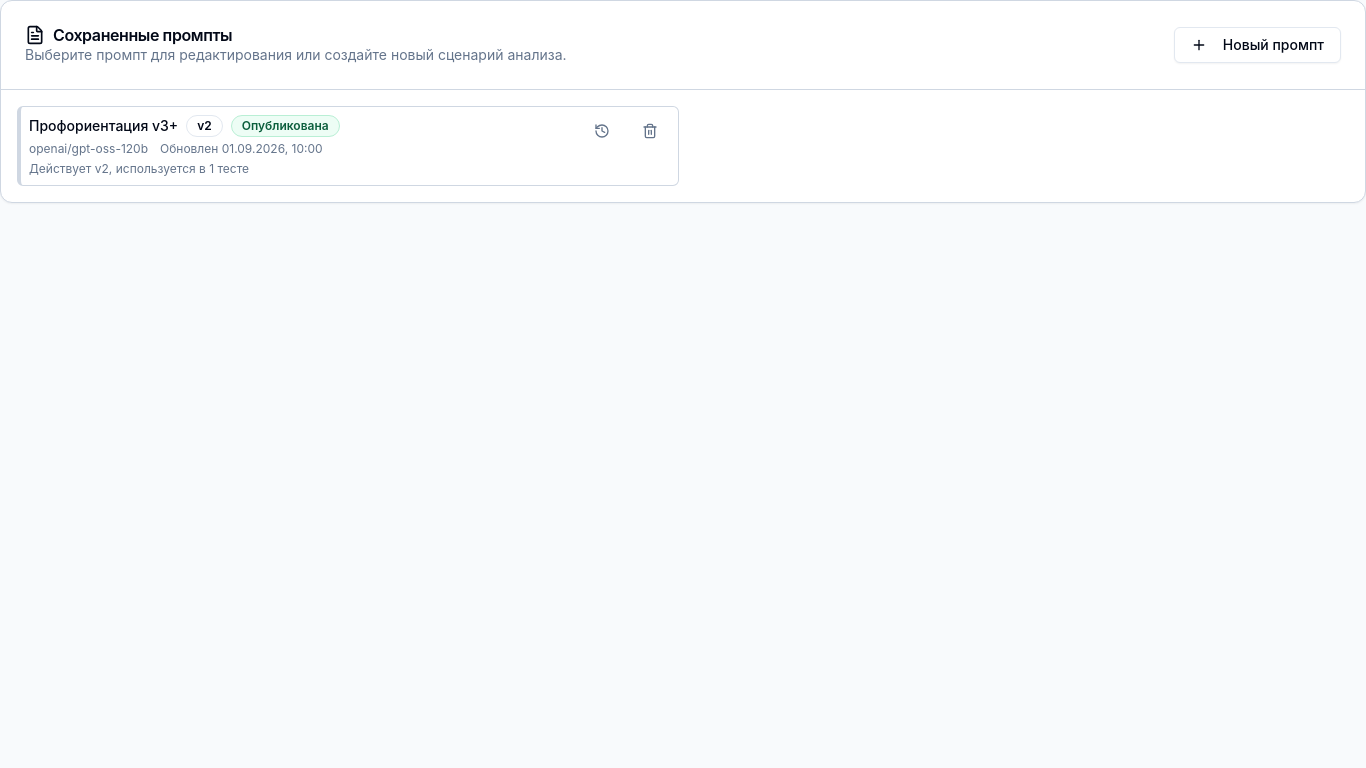
it: PromptLibraryCard deletion › refuses to delete a prompt that published tests rely on and names them
The image size is (1366, 768).
Click the button named "Удалить промпт Профориентация v3+": (650, 131) [630,115,670,147]
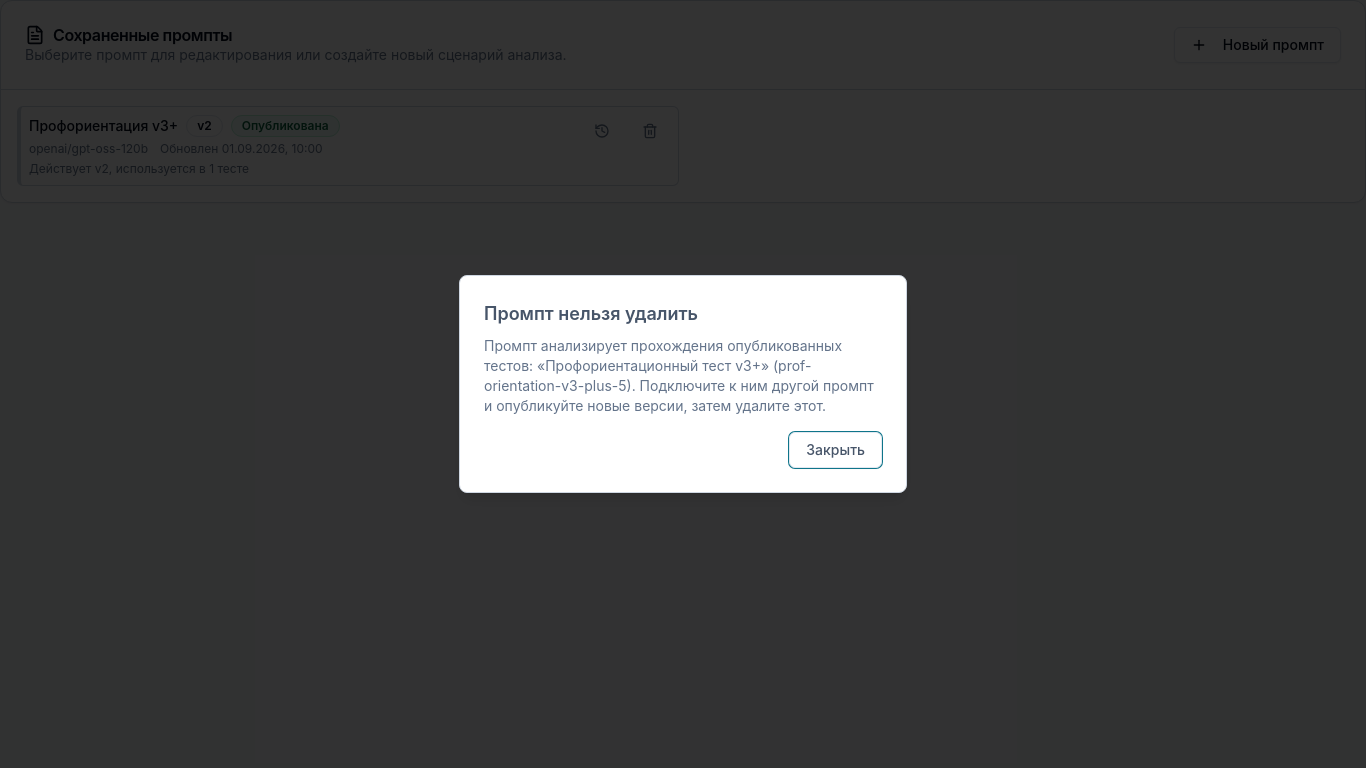
Expected: the heading "Промпт нельзя удалить" is shown, [484,303,698,324]
Expected: the text "«Профориентационный тест v3+» (prof-orientation-v3-plus-5)" is shown, [484,337,874,414]
Expected: the button "Закрыть" is shown, [789,432,882,468]
